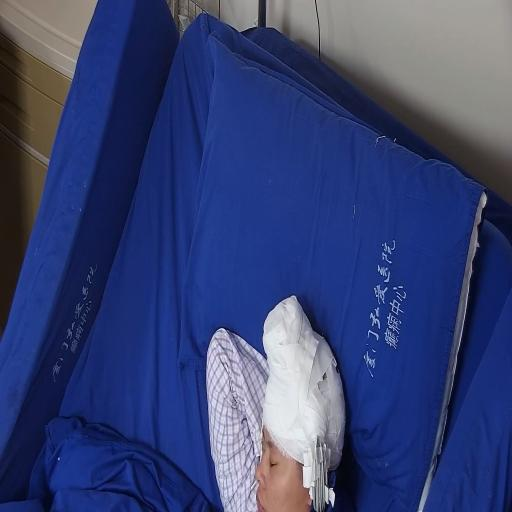Netural: (252, 393, 319, 511)
